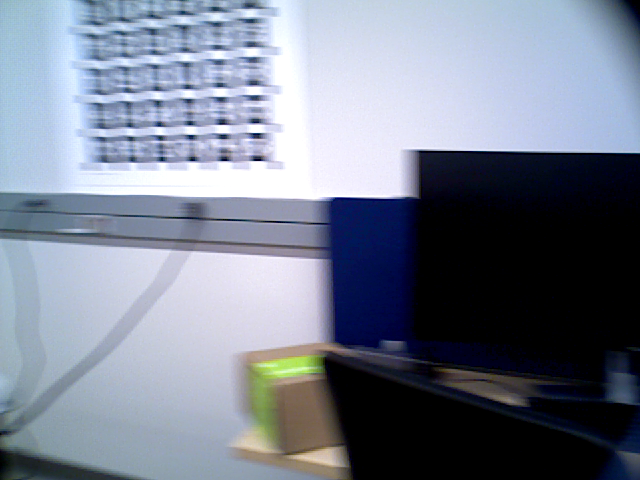painting4: (62, 1, 314, 196)
